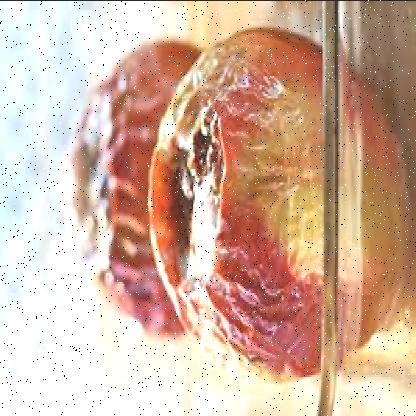damaged_apple: (153, 20, 332, 396), (64, 41, 209, 348)
